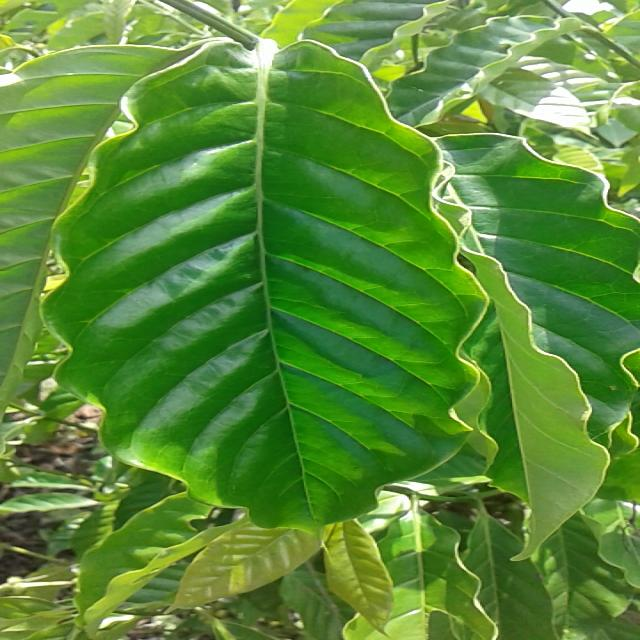Sanas: (45, 43, 487, 532)
